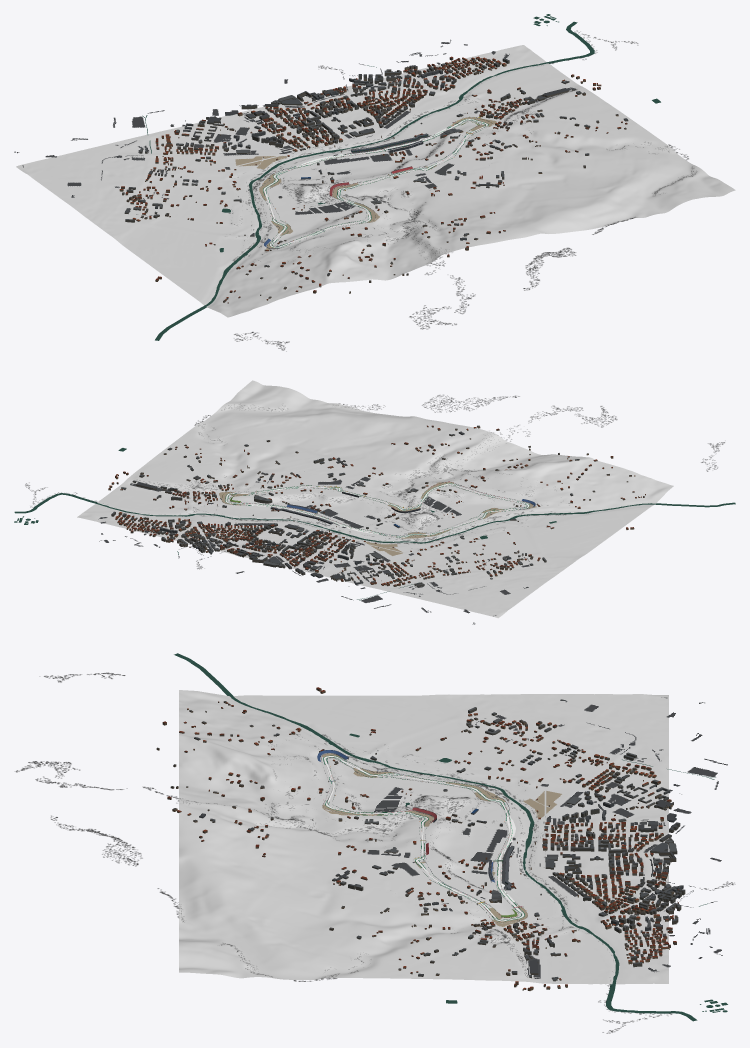
The model's file is cenario.glb.
The picture shows the model from 3 angles, top to bottom: view 1: azimuth 30°, elevation 25°; view 2: azimuth 150°, elevation 25°; view 3: azimuth 270°, elevation 25°; orthographic projection. The views are drawn at different scales.
Parts seen in each view (by area): view 1: o0_s0 (×8); view 2: o0_s0 (×7); view 3: o0_s0 (×9).
Part boxes in pixels (x1,y1,x2,y2): o0_s0 (×8): (14, 21, 735, 340); o0_s0 (×7): (14, 380, 735, 624); o0_s0 (×9): (156, 653, 727, 1021).
Size of what is drawn, in the model's own units: 4289 by 131 by 3465.
Materials: 82 (46 with a texture image).
